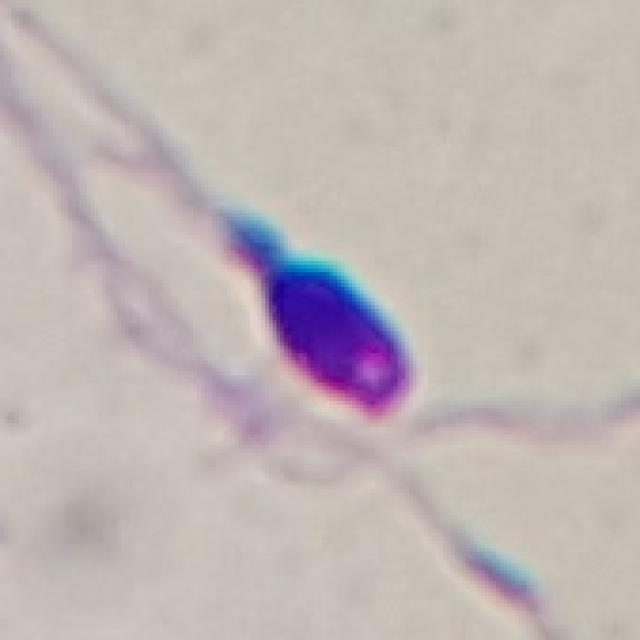abnormal sperm: (93, 75, 424, 418)
